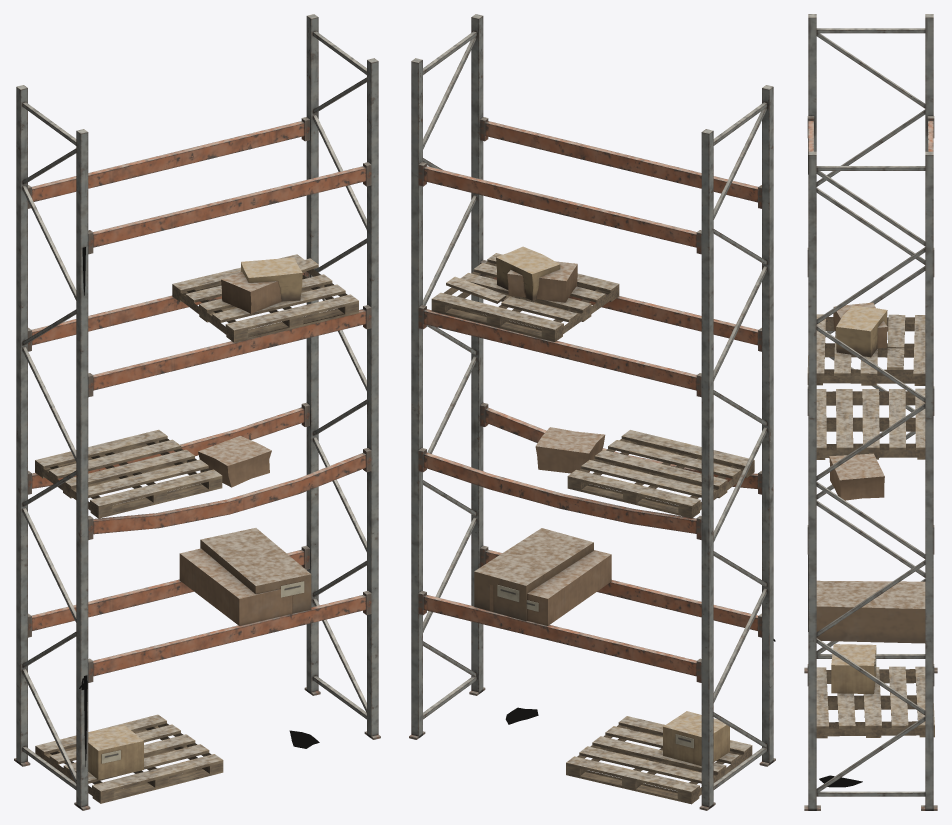
File: rack_bay_sparse.fbx
3 renders of one model, left to right at view 1: azimuth 30°, elevation 25°; view 2: azimuth 150°, elevation 25°; view 3: azimuth 270°, elevation 25°, orthographic. The views are drawn at different scales.
Parts seen in each view (by area): view 1: Body; view 2: Body; view 3: Body.
Part boxes in pixels (bbox=[...]): Body: bbox=[14, 14, 380, 810]; Body: bbox=[409, 14, 775, 810]; Body: bbox=[804, 14, 937, 810].
Bounding box in the file's own units: 12.08 × 26 × 4.8.
1 material, 1 textured.
